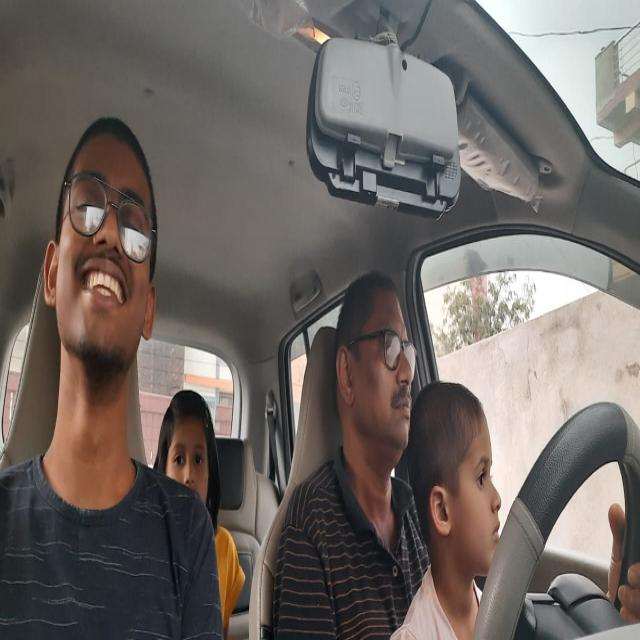child: (413, 373, 503, 580)
person: (41, 102, 161, 400), (331, 264, 419, 462), (155, 382, 220, 513)
